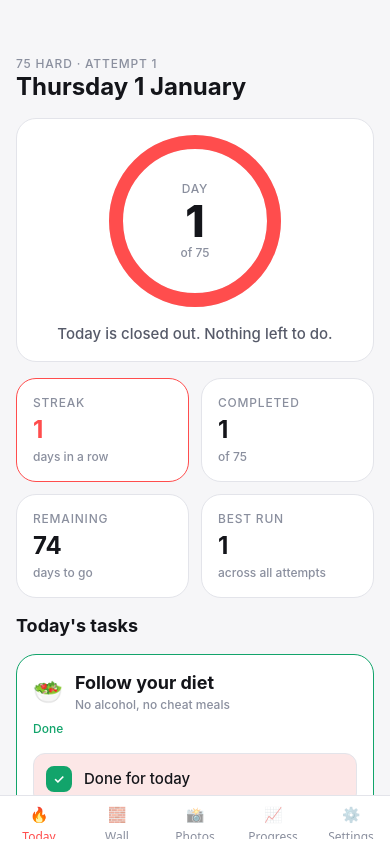
Scenario: Progress tab › reflects a completed day in the stat tiles and per-task consistency
Check: the text "Today" is shown, box [22, 829, 56, 839]
Step 1. Click the text "Progress" → (273, 834), box [248, 829, 298, 839]
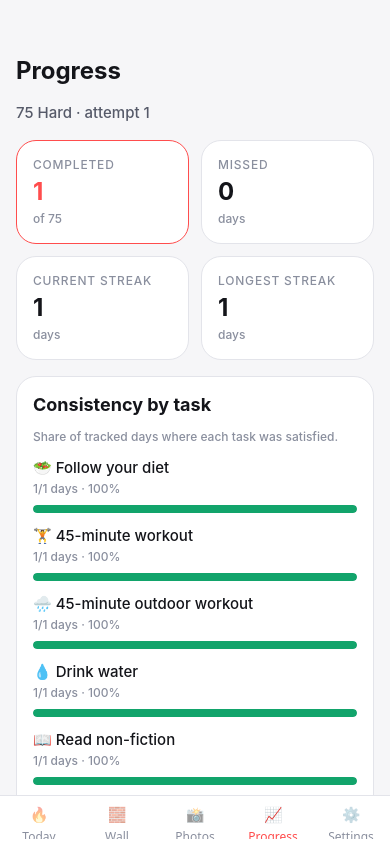
Check: the text "Consistency by task" is shown, box [33, 394, 211, 415]
Check: the text "75 Hard · attempt 1" is shown, box [16, 103, 150, 122]
Check: the text "🥗 Follow your diet" is shown, box [33, 458, 169, 477]
